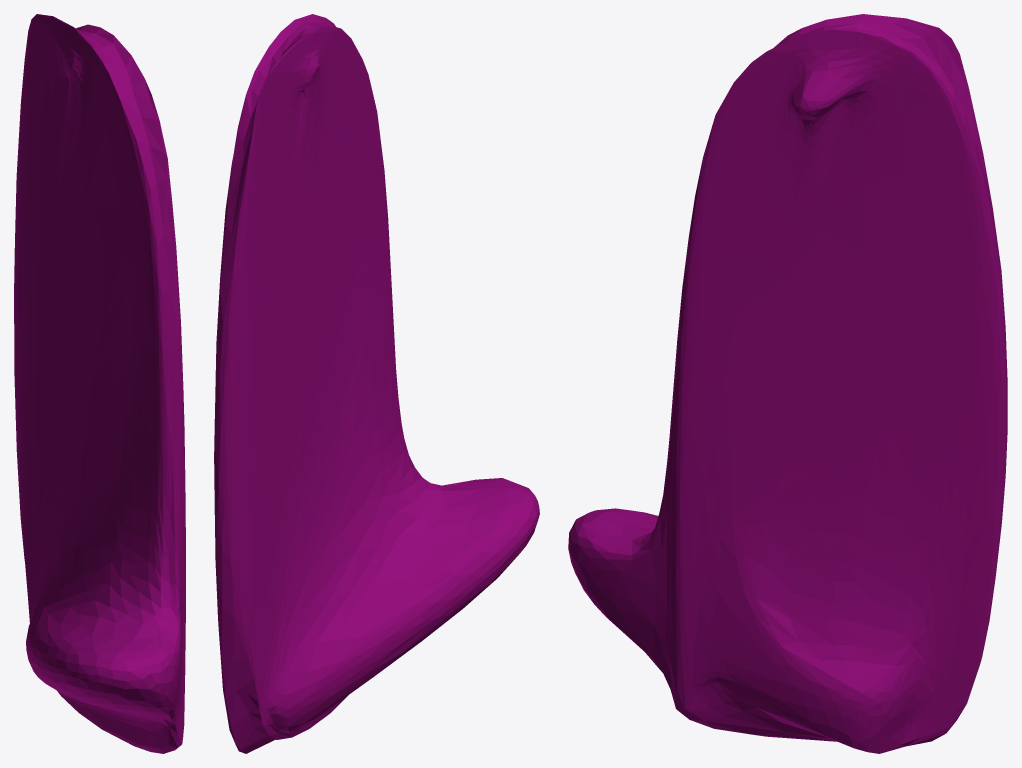
3 views of the same model, side by side, from view 1: azimuth 30°, elevation 25°; view 2: azimuth 150°, elevation 25°; view 3: azimuth 270°, elevation 25° (orthographic). The views are drawn at different scales.
Parts seen in each view (by area): view 1: 776_Cube.3126; view 2: 776_Cube.3126; view 3: 776_Cube.3126.
Part boxes in pixels (x1=…): 776_Cube.3126: x1=14, y1=14, x2=185, y2=753; 776_Cube.3126: x1=214, y1=14, x2=539, y2=753; 776_Cube.3126: x1=568, y1=14, x2=1007, y2=753.
Bounding box in the file's own units: 3.15 × 11.73 × 6.51.
